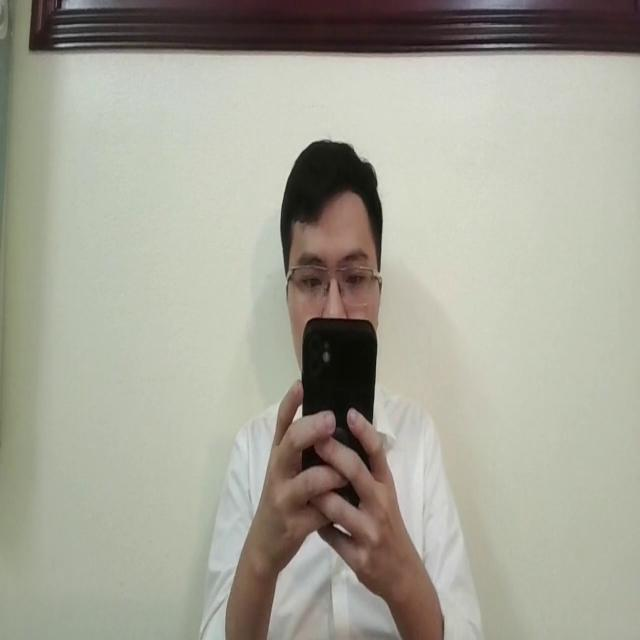phone: (298, 316, 378, 524)
student: (203, 128, 482, 640)
